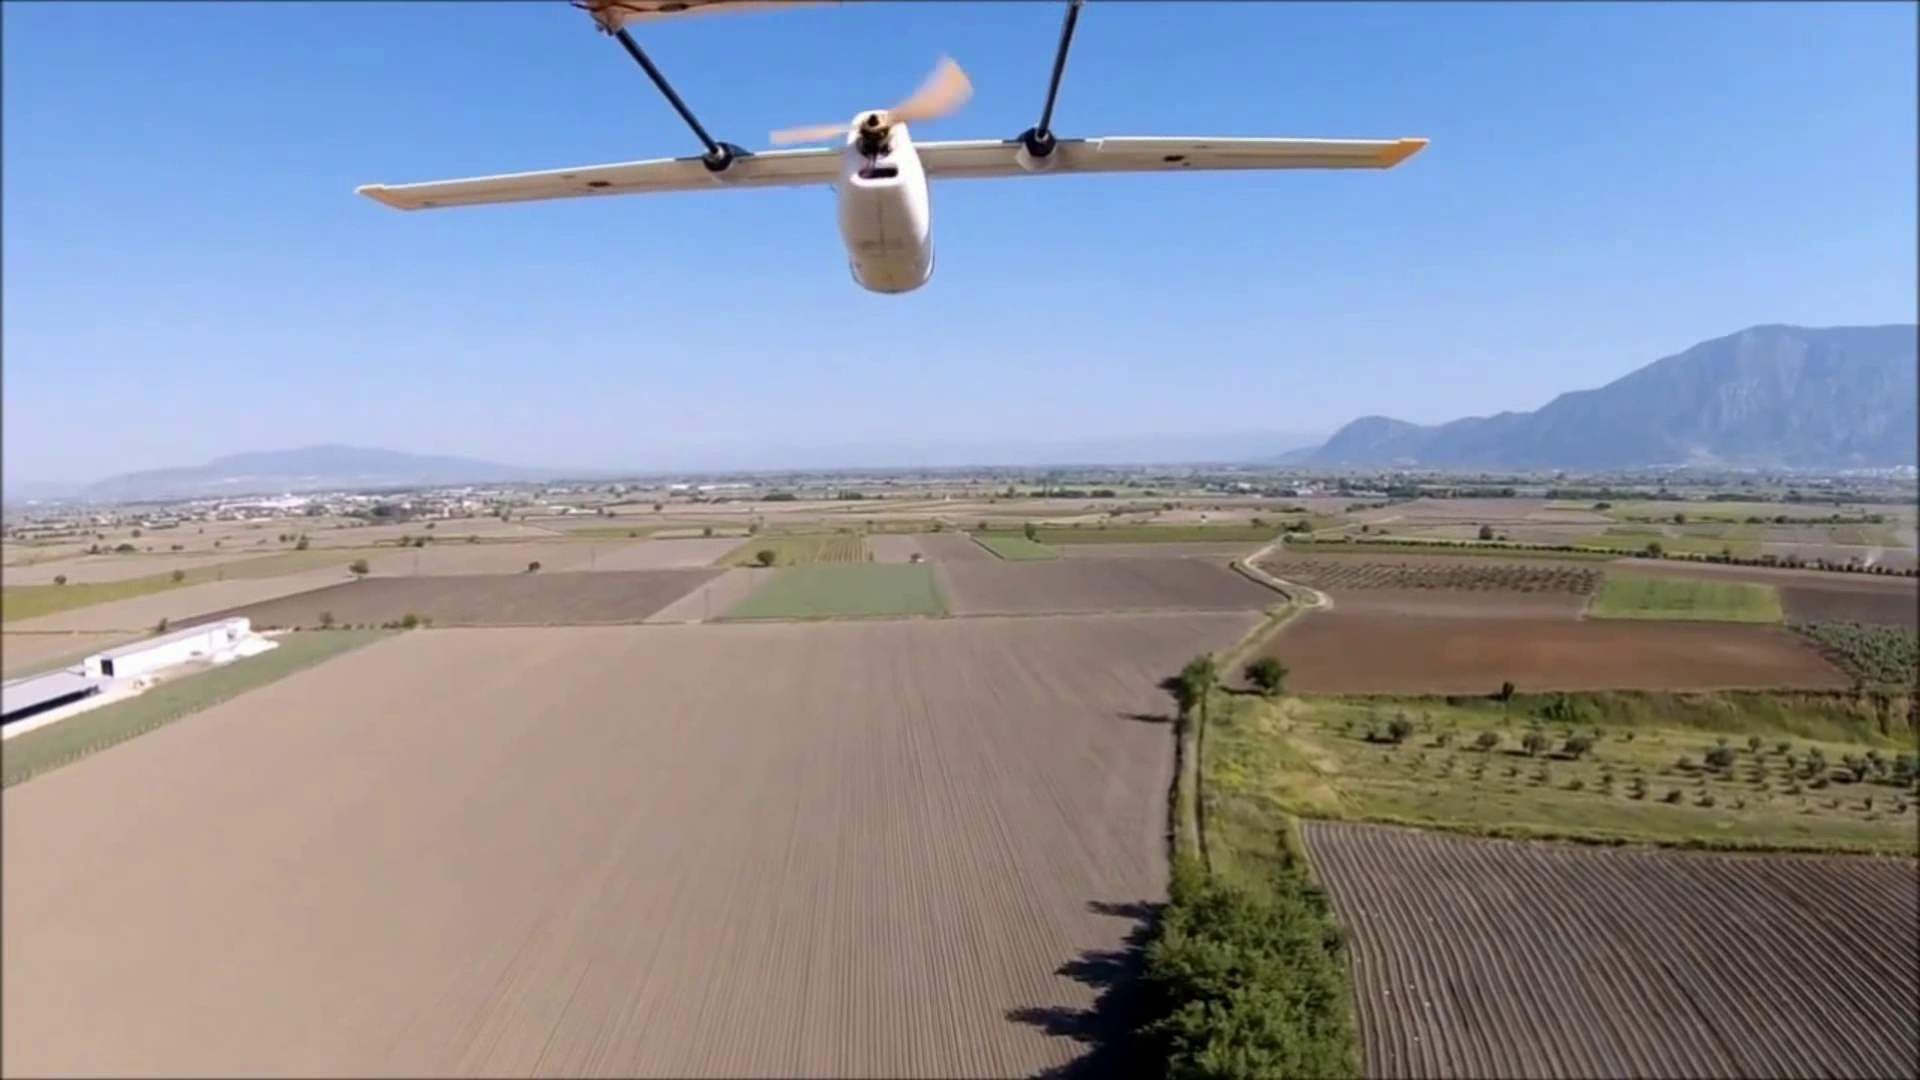airplane: (353, 3, 1425, 294)
